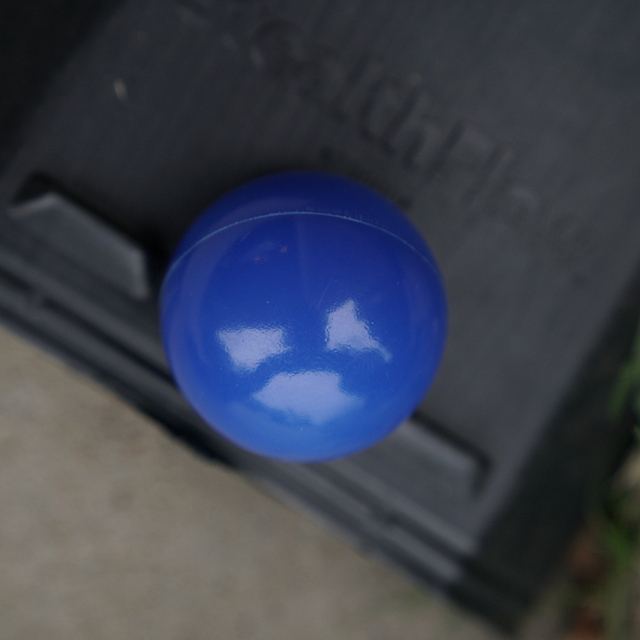Ball: (158, 174, 448, 461)
